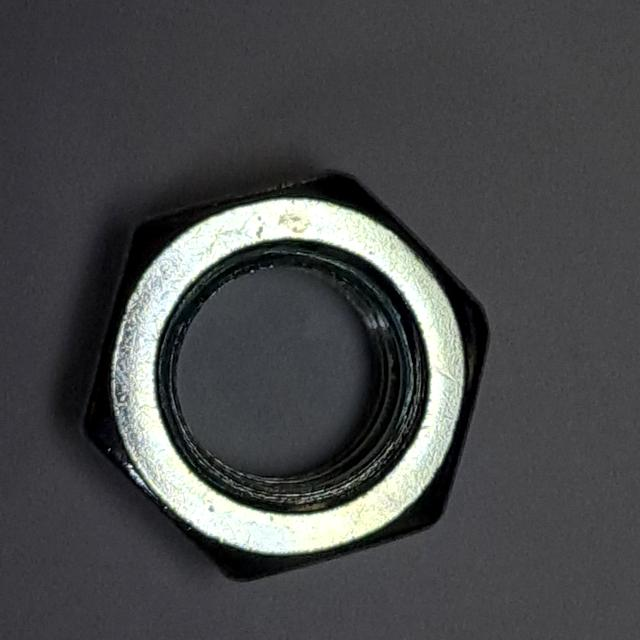Excellent: (66, 156, 500, 592)
